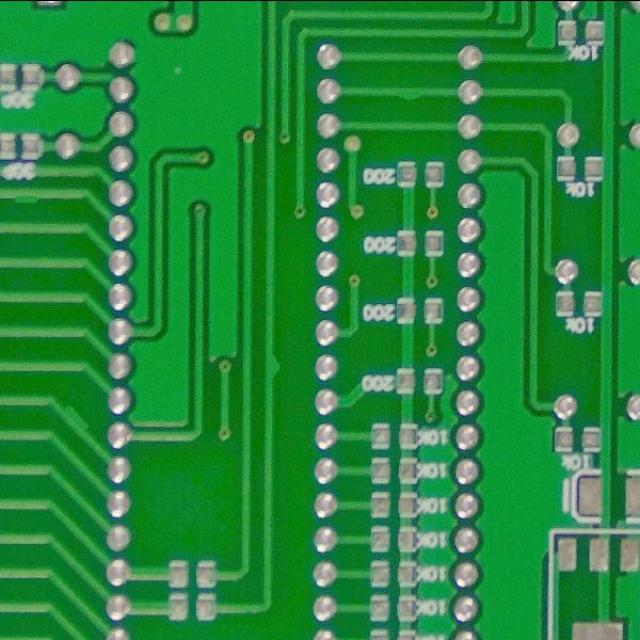Spur: (55, 398, 98, 441), (7, 181, 47, 208), (391, 80, 429, 105), (259, 351, 286, 385)
